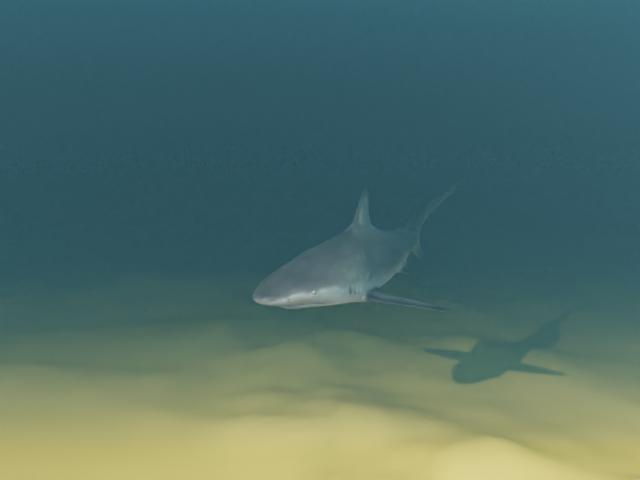Carribean Shark.001: (252, 180, 464, 311)
